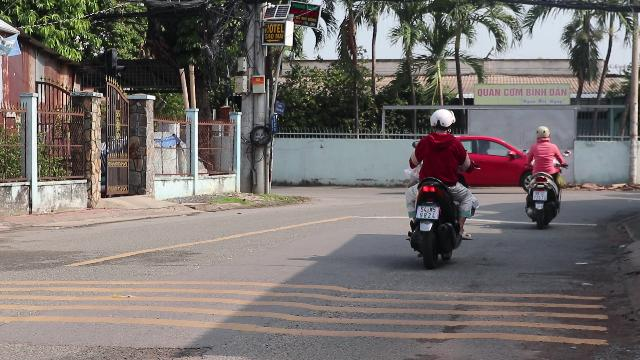helmet: (428, 109, 454, 134), (534, 125, 550, 141)
licenseplate: (416, 206, 438, 219), (534, 190, 546, 199)
motorcyclist: (400, 108, 478, 266), (520, 126, 564, 226)
